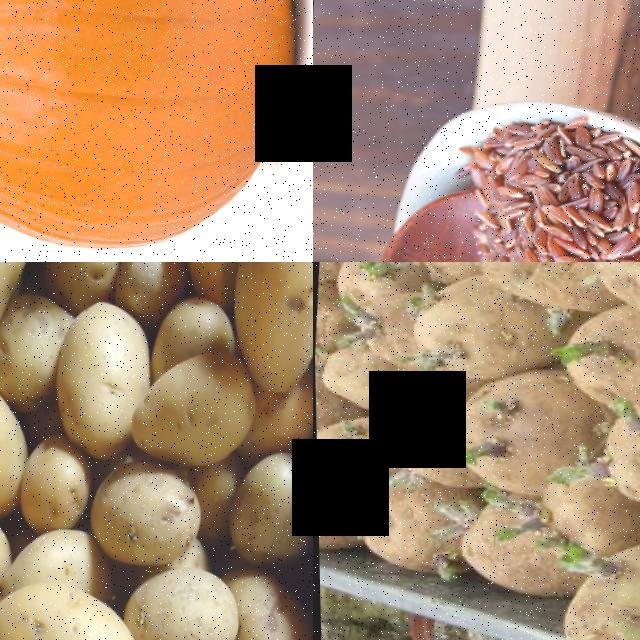potato: (444, 360, 584, 496), (405, 279, 547, 381), (131, 351, 253, 465), (49, 301, 142, 447), (86, 460, 204, 572), (220, 262, 313, 387), (554, 509, 640, 640), (0, 579, 146, 640), (121, 565, 237, 640), (461, 262, 621, 309), (0, 367, 29, 502)
pumpkin: (0, 0, 313, 262)
red rice: (467, 128, 640, 262)
